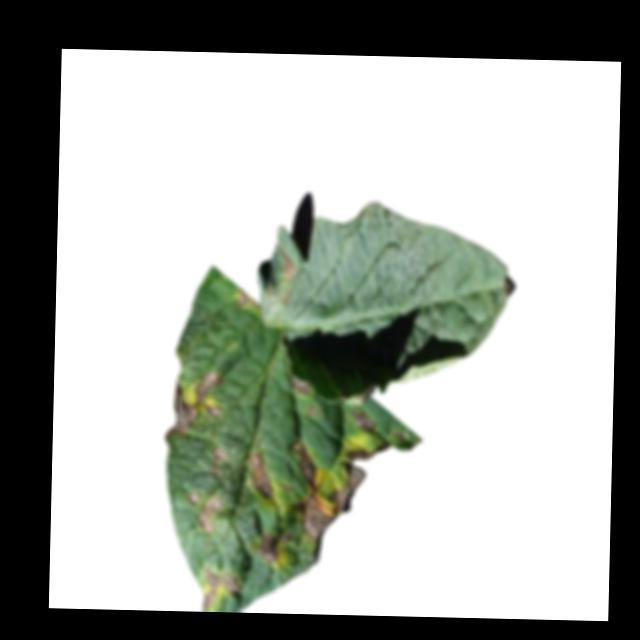Early_blight: (286, 440, 367, 543), (162, 367, 224, 441), (199, 566, 243, 612), (266, 247, 298, 305), (188, 490, 224, 533), (248, 450, 276, 500), (344, 443, 387, 463), (257, 530, 279, 563), (235, 285, 261, 312), (351, 407, 377, 432), (209, 444, 224, 480), (290, 376, 313, 394), (303, 404, 320, 416)
